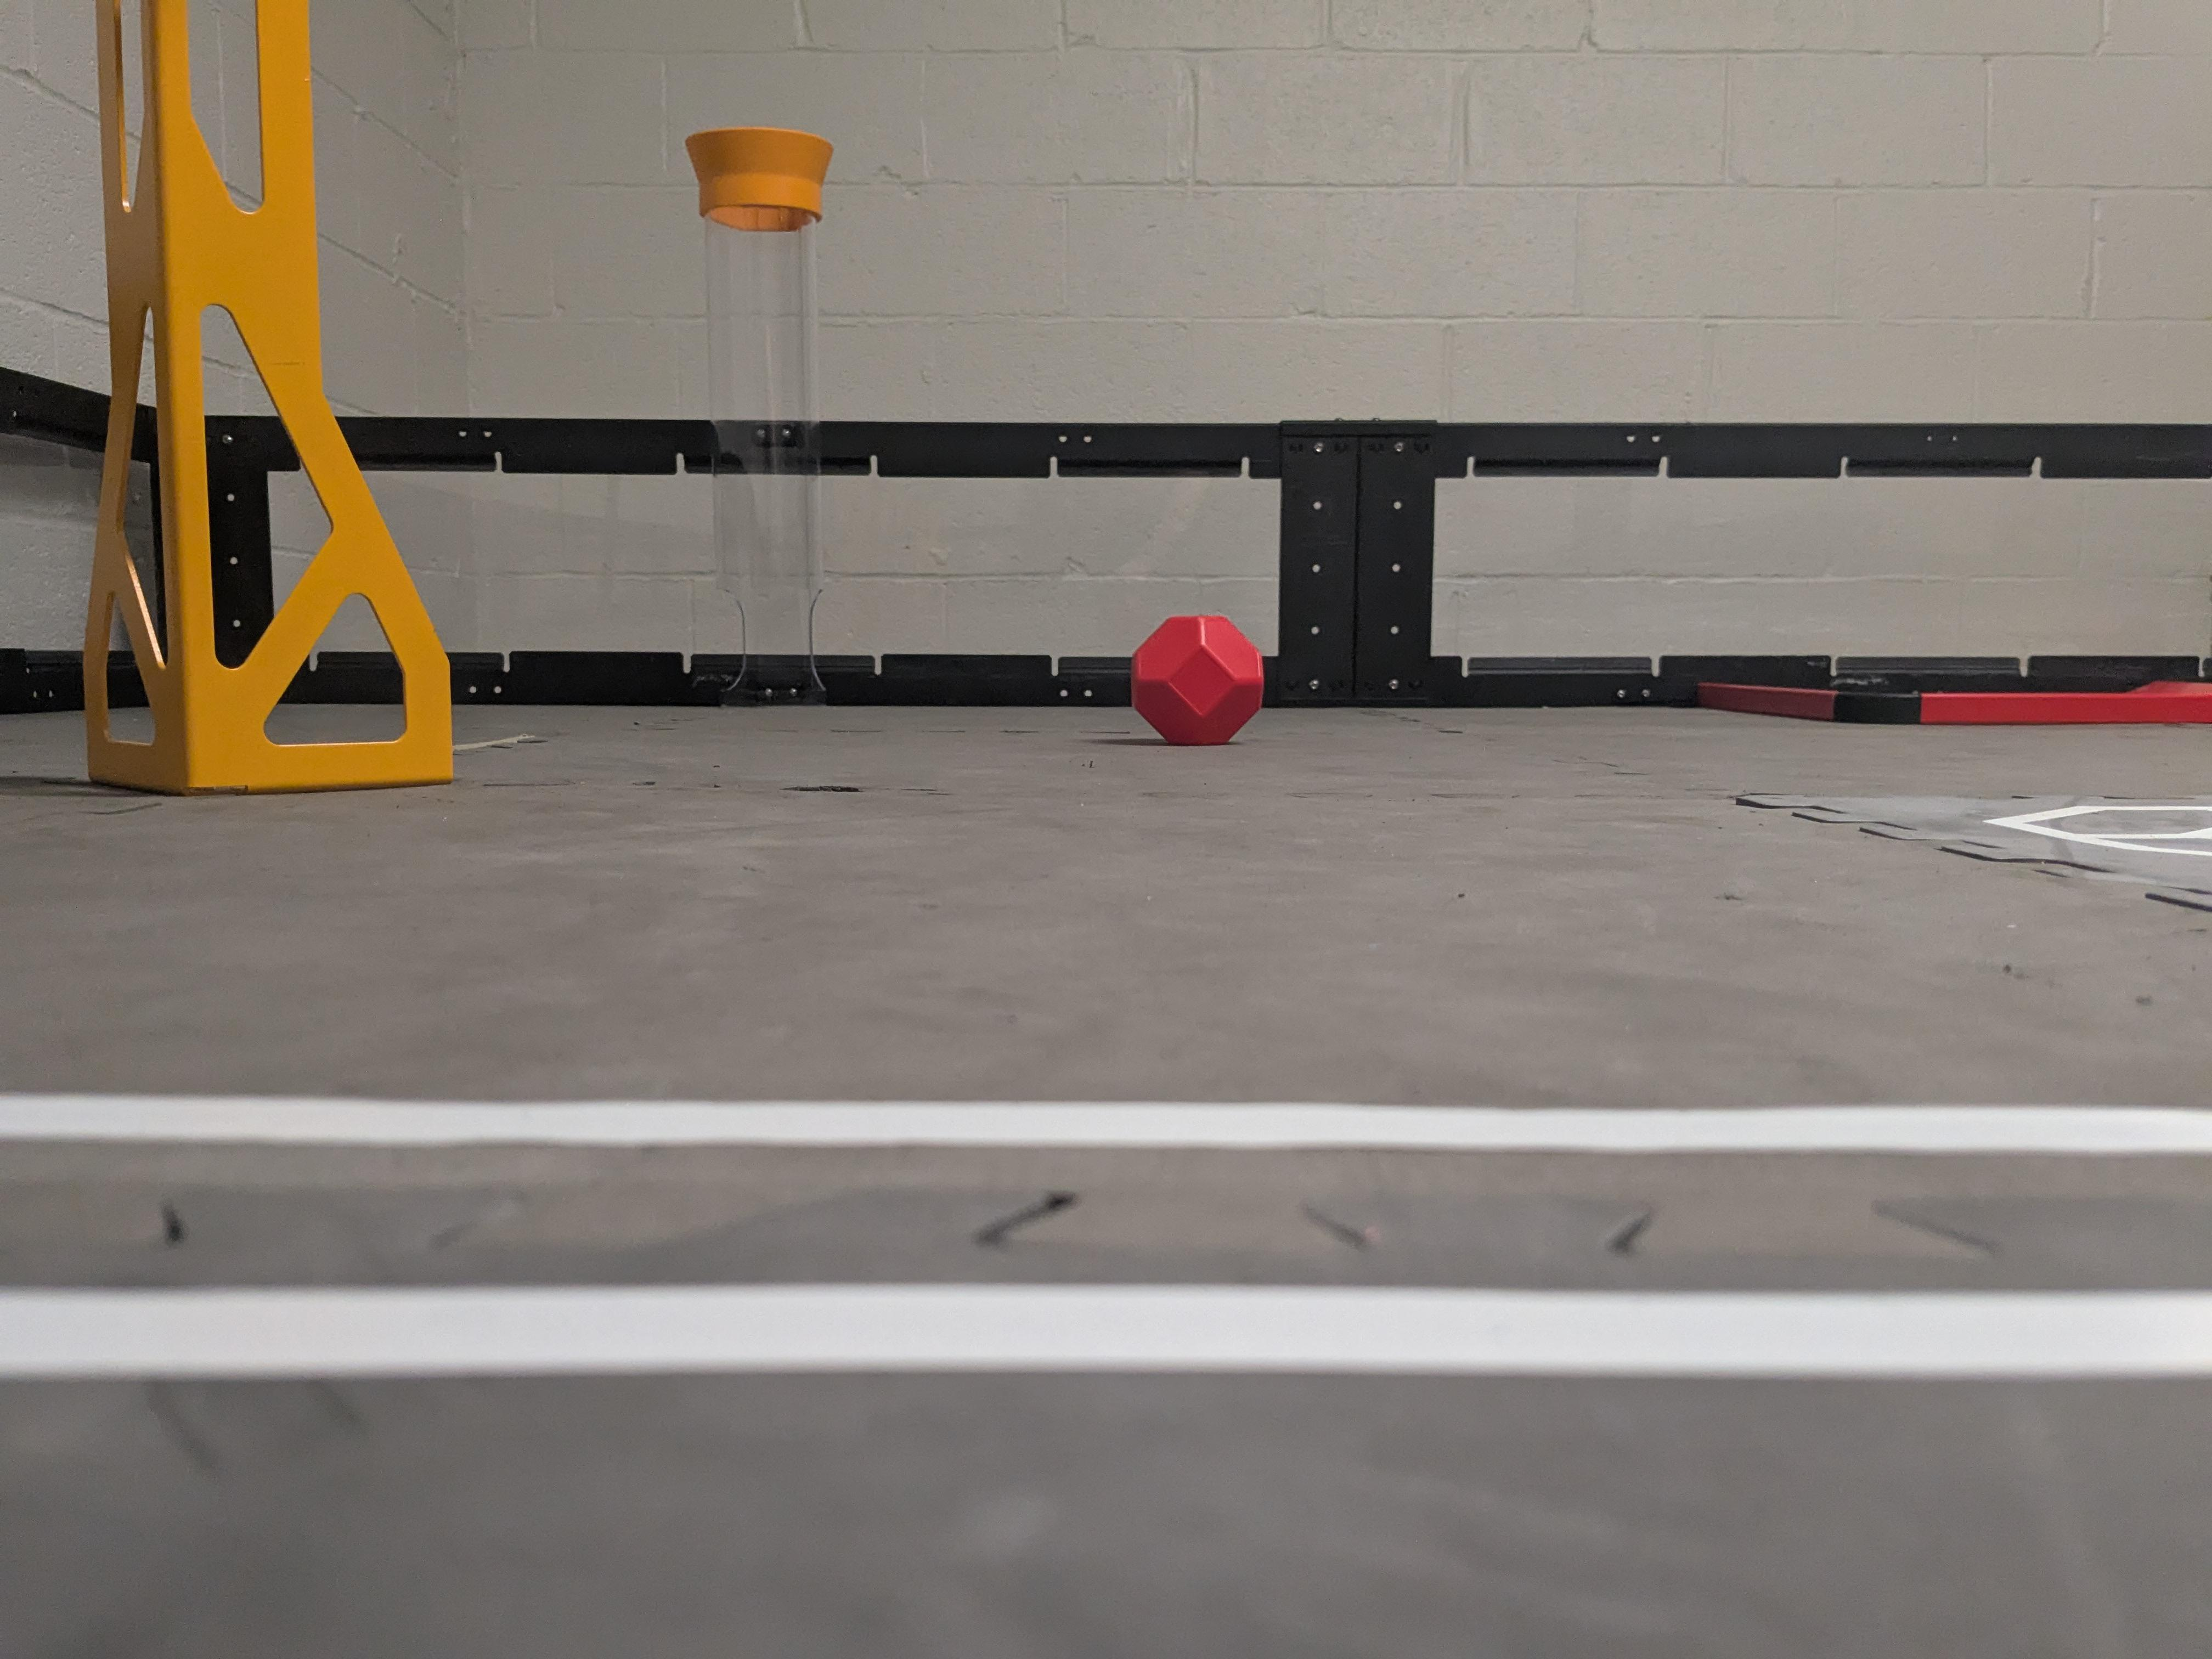Vex-Pieces-RED: (1132, 617, 1261, 744)
